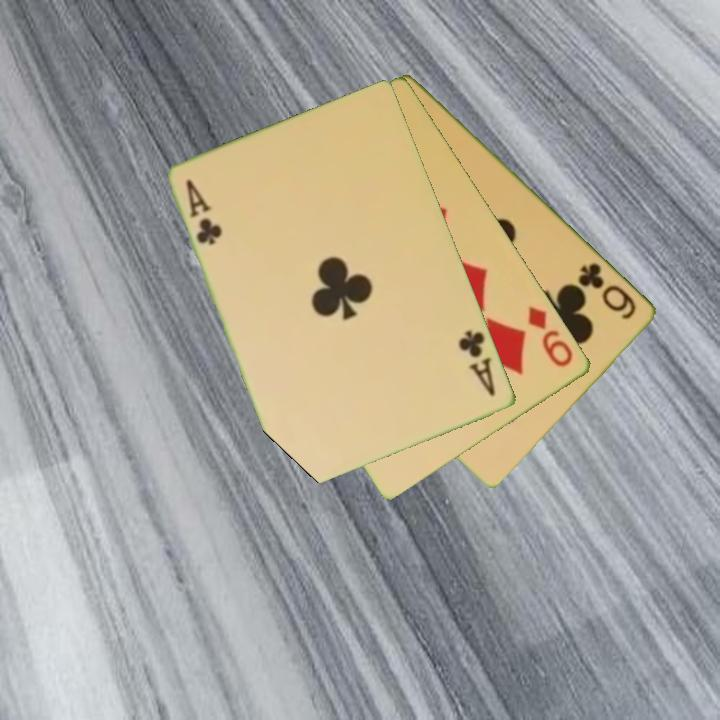6c: (575, 259, 640, 323)
9d: (524, 302, 577, 370)
Ac: (455, 326, 499, 400), (183, 175, 226, 248)
